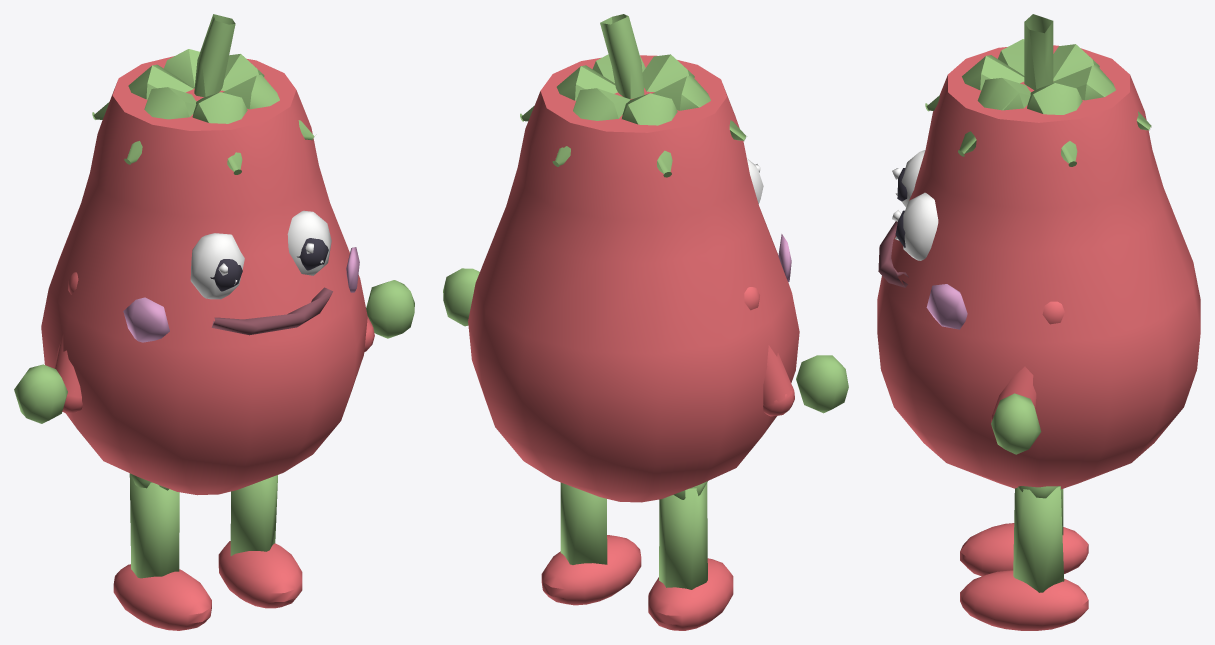
Rendered from Eggplant.fbx.
The picture shows the model from 3 angles, left to right: view 1: azimuth 30°, elevation 25°; view 2: azimuth 150°, elevation 25°; view 3: azimuth 270°, elevation 25°; orthographic projection.
Visible parts, largest first — view 1: EX_Eggplant; view 2: EX_Eggplant; view 3: EX_Eggplant.
Part boxes in pixels (box(x1,y1,x2,y2)): EX_Eggplant: box(14, 14, 414, 630); EX_Eggplant: box(443, 14, 848, 630); EX_Eggplant: box(877, 14, 1200, 630).
Bounding box in the file's own units: 161 × 226 × 112.
